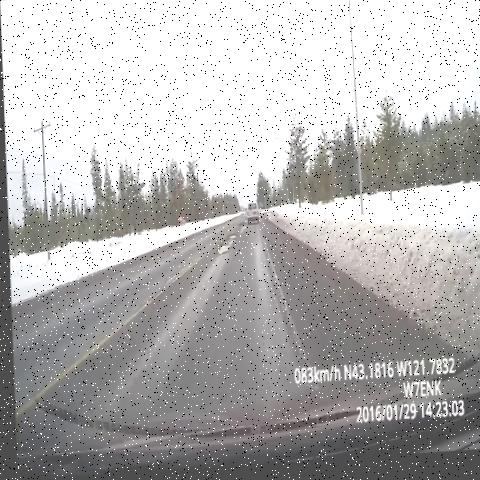pothole: (209, 236, 240, 264), (232, 219, 247, 237)
